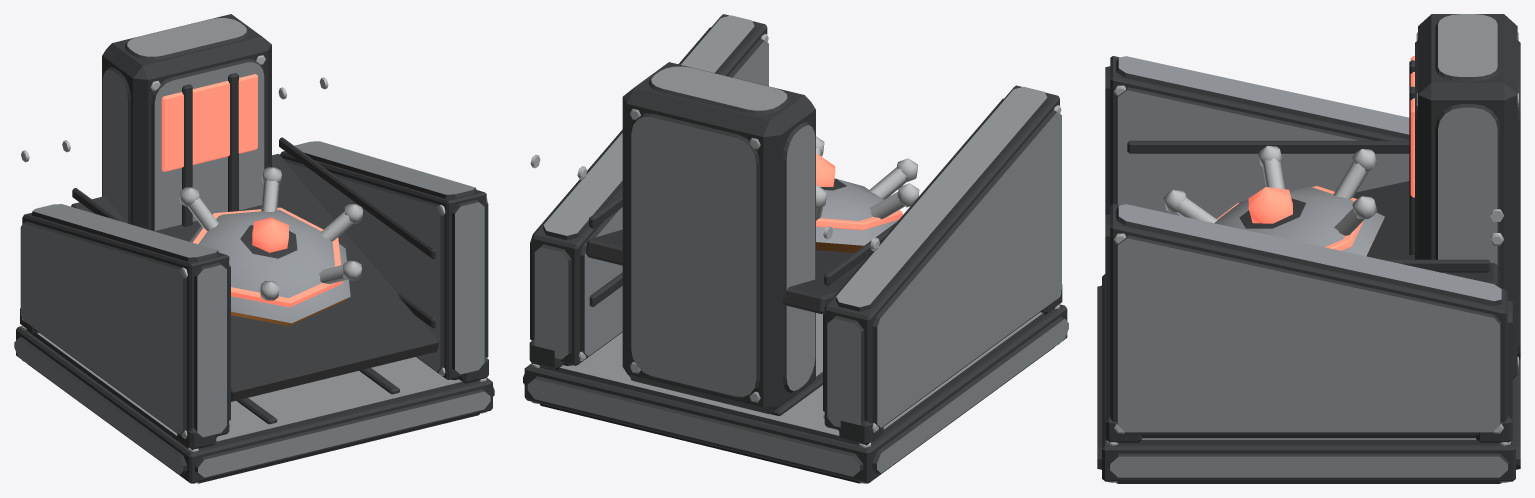
The model's file is R4X_ExplosiveTrapDeployer.fbx.
3 views of the same model, side by side, from view 1: azimuth 30°, elevation 25°; view 2: azimuth 150°, elevation 25°; view 3: azimuth 270°, elevation 25° (orthographic). The views are drawn at different scales.
Visible parts, largest first — view 1: R4X_ExplosiveTrapDeployer_Body, R4X_ExplosiveTrapDeployer_Payload; view 2: R4X_ExplosiveTrapDeployer_Body, R4X_ExplosiveTrapDeployer_Payload; view 3: R4X_ExplosiveTrapDeployer_Body, R4X_ExplosiveTrapDeployer_Payload.
Part boxes in pixels (x1,y1,x2,y2): R4X_ExplosiveTrapDeployer_Body: (14,14,494,483); R4X_ExplosiveTrapDeployer_Payload: (179,167,362,326); R4X_ExplosiveTrapDeployer_Body: (523,14,1068,483); R4X_ExplosiveTrapDeployer_Payload: (816,136,919,252); R4X_ExplosiveTrapDeployer_Body: (1097,14,1520,483); R4X_ExplosiveTrapDeployer_Payload: (1163,146,1384,256).
Size of the model in its own units: 0.52 by 0.48 by 0.52.
